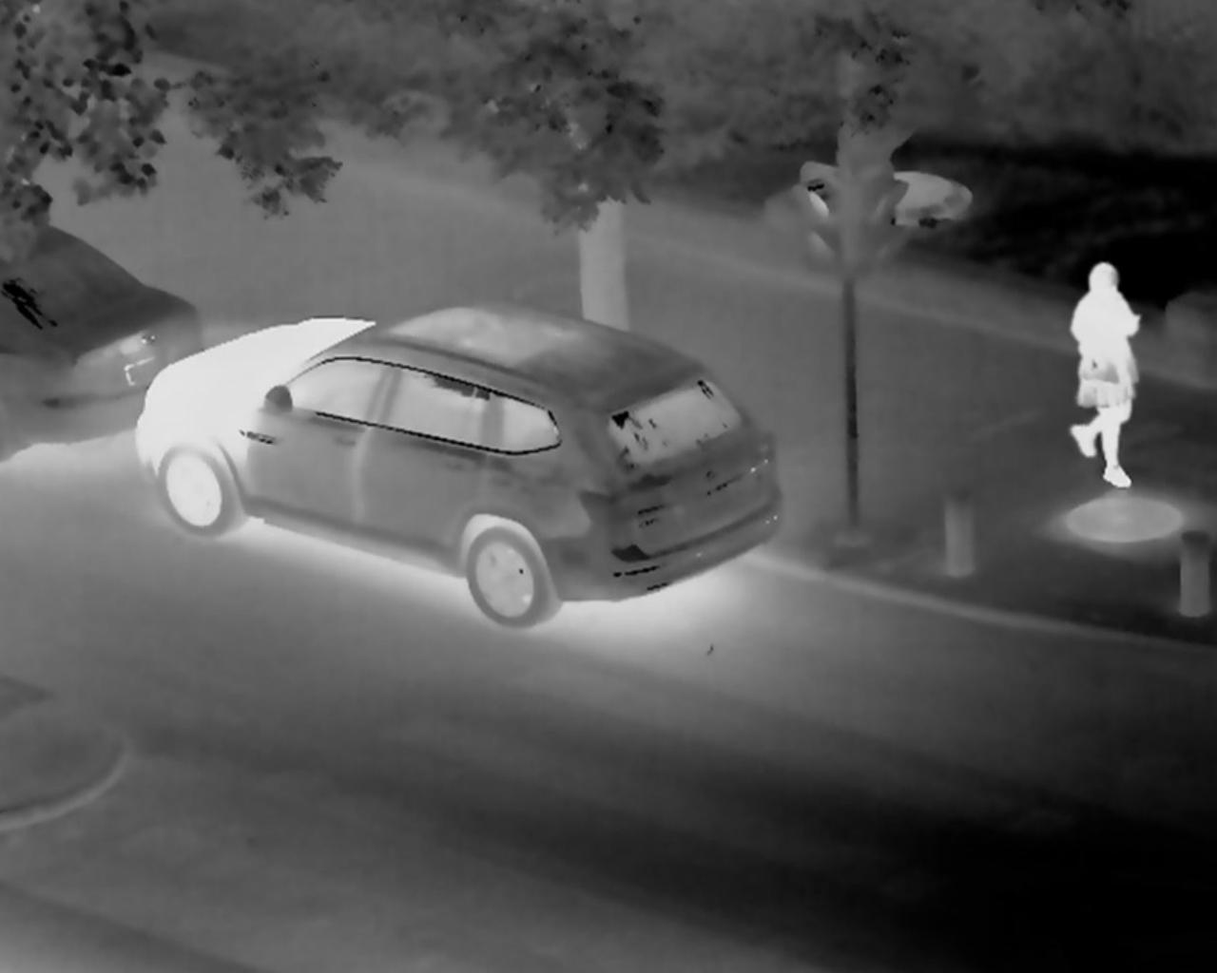person: (1071, 258, 1149, 493)
